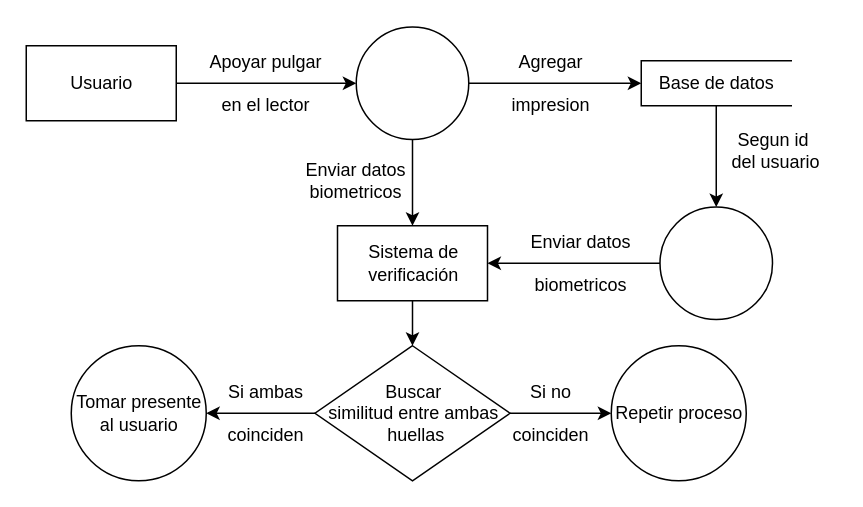
Some shapes in this 863 by 507 pixel diagram are drawn without their labels. Each missing label, with the box of its shape:
Capturar huella digital: (355, 26, 469, 140)
Recupera datos biometricos: (658, 206, 772, 320)
